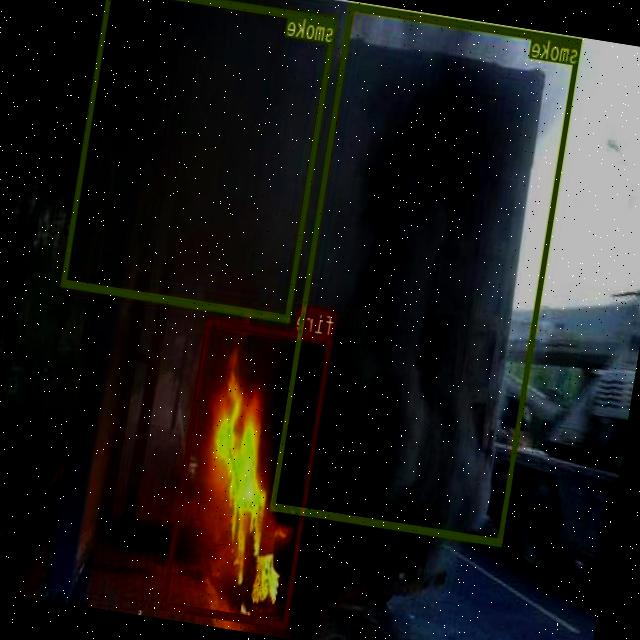fire: (162, 317, 334, 628)
smoke: (271, 2, 584, 546), (62, 0, 339, 321)
